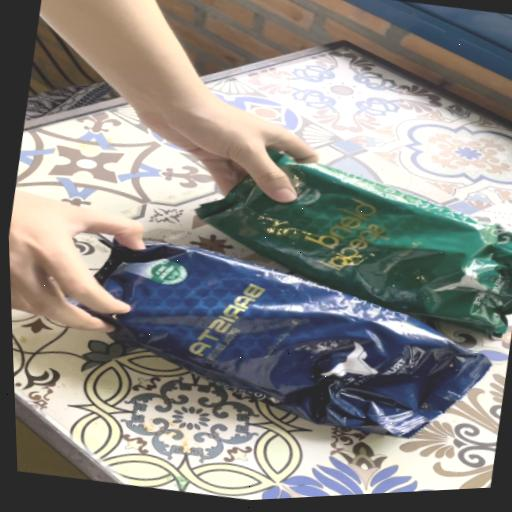cafe_hat: (86, 242, 491, 436)
cafe_xay: (196, 151, 512, 336)
